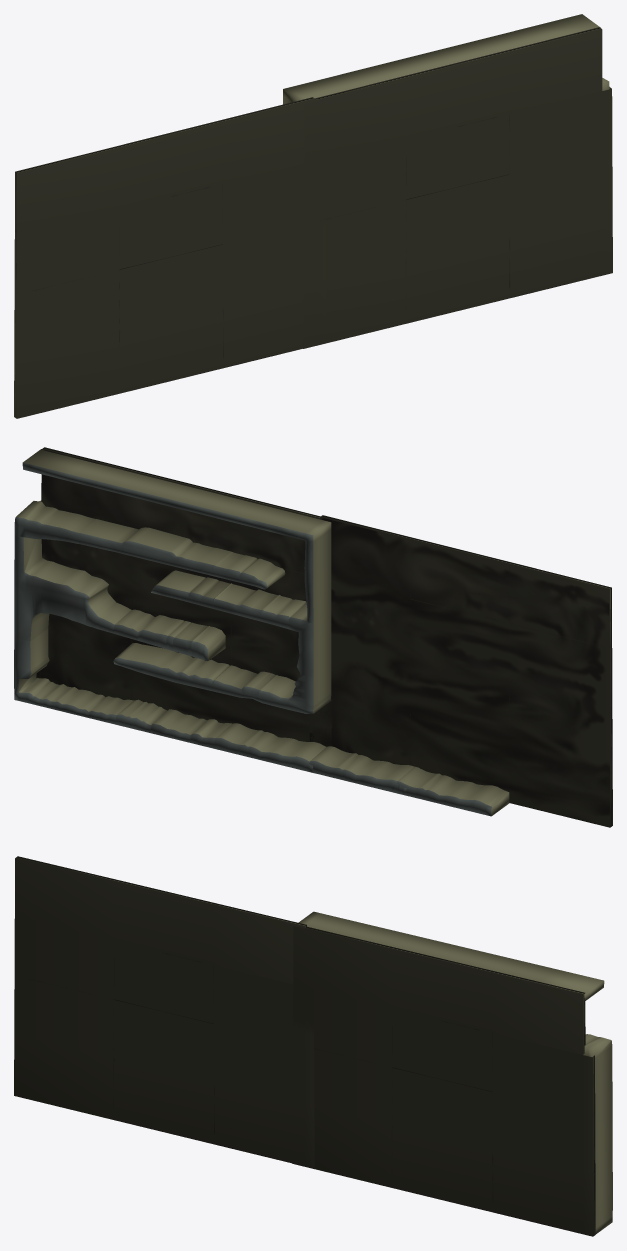
The model's file is cave level map.fbx.
3 views of the same model, one above another, from view 1: azimuth 30°, elevation 25°; view 2: azimuth 150°, elevation 25°; view 3: azimuth 330°, elevation 25° (orthographic). The views are drawn at different scales.
Visible parts, largest first — view 1: S1P10, S1P10.001, part4.006, part4.007, part4.004; view 2: S1P10.001, S1P10, part4.010, part4.013, part4, part4.014, part4.006, part4.011, part4.003, part4.008, part4.017, part4.012 (+7 smaller); view 3: S1P10.001, S1P10, part4.010, part4.004, part4.007, part4.006, part4.014, part4.003.
Boxes of the visible parts, bbox=[...] form: S1P10: bbox=[303, 27, 612, 348]; S1P10.001: bbox=[14, 97, 326, 418]; part4.006: bbox=[283, 63, 402, 104]; part4.007: bbox=[386, 37, 504, 75]; part4.004: bbox=[488, 14, 600, 50]; S1P10.001: bbox=[309, 515, 612, 827]; S1P10: bbox=[36, 447, 331, 746]; part4.010: bbox=[14, 535, 131, 641]; part4.013: bbox=[213, 640, 331, 713]; part4: bbox=[214, 581, 331, 652]; part4.014: bbox=[14, 629, 133, 724]; part4.006: bbox=[213, 497, 331, 593]; part4.011: bbox=[114, 609, 225, 660]; part4.003: bbox=[14, 500, 131, 551]; part4.008: bbox=[114, 527, 231, 576]; part4.017: bbox=[392, 766, 509, 816]; part4.012: bbox=[113, 643, 230, 691]; S1P10.001: bbox=[14, 856, 314, 1168]; S1P10: bbox=[292, 926, 595, 1236]; part4.010: bbox=[595, 1058, 612, 1171]; part4.004: bbox=[495, 959, 604, 1000]; part4.007: bbox=[396, 935, 511, 971]; part4.006: bbox=[298, 911, 412, 947]; part4.014: bbox=[595, 1160, 612, 1234]; part4.003: bbox=[583, 1034, 612, 1069].
Bounding box in the file's own units: 2539 × 1006 × 156.
